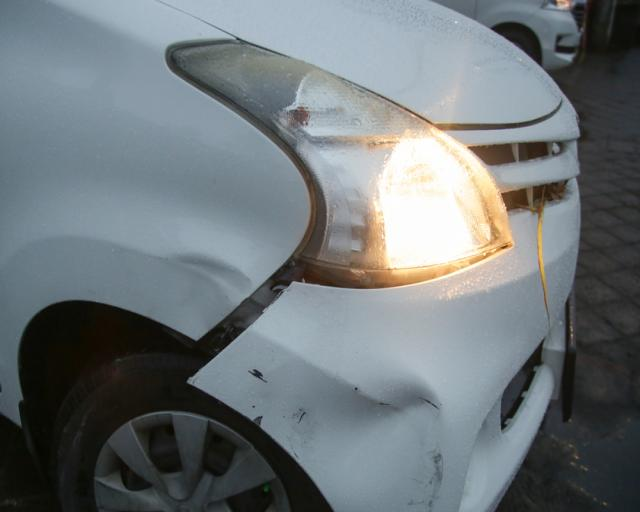dent: (299, 377, 440, 500), (161, 256, 252, 337)
scratch: (407, 443, 444, 512), (244, 365, 270, 427)
